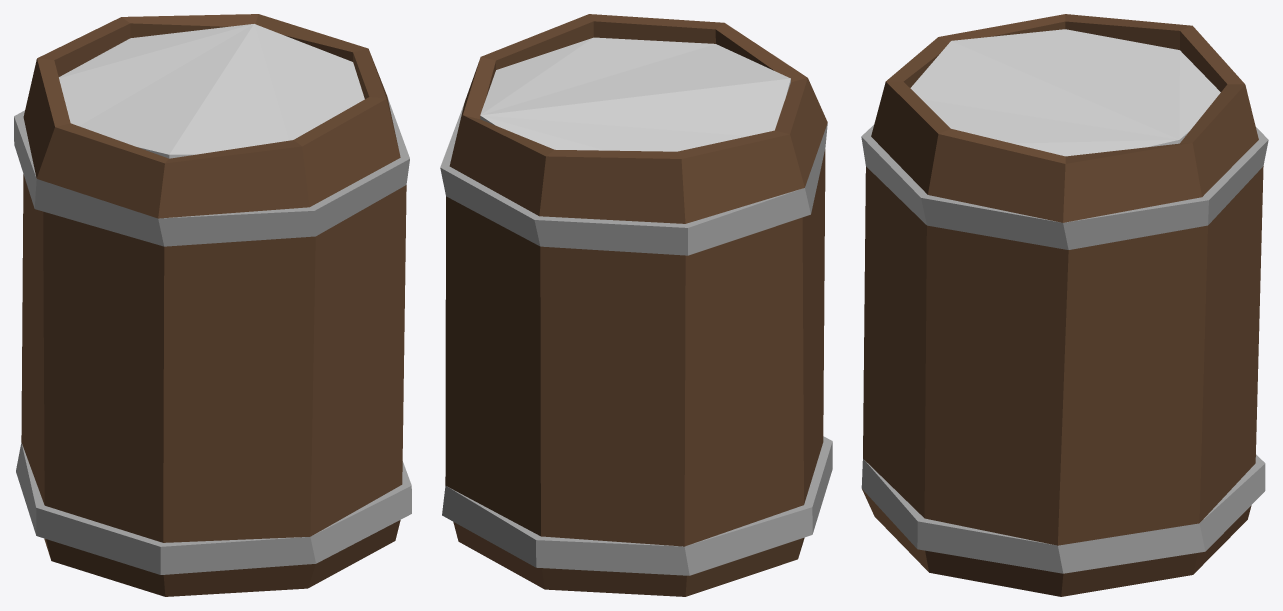
The model's file is Barrel_snow_mat.fbx.
The picture shows the model from 3 angles, left to right: view 1: azimuth 30°, elevation 25°; view 2: azimuth 150°, elevation 25°; view 3: azimuth 270°, elevation 25°; orthographic projection.
Visible parts, largest first — view 1: Barrel_snow_mat; view 2: Barrel_snow_mat; view 3: Barrel_snow_mat.
Boxes of the visible parts, bbox=[...] form: Barrel_snow_mat: bbox=[14, 14, 411, 596]; Barrel_snow_mat: bbox=[440, 14, 832, 596]; Barrel_snow_mat: bbox=[861, 14, 1268, 596].
Size of the model in its own units: 0.5902 by 0.7106 by 0.5958.
